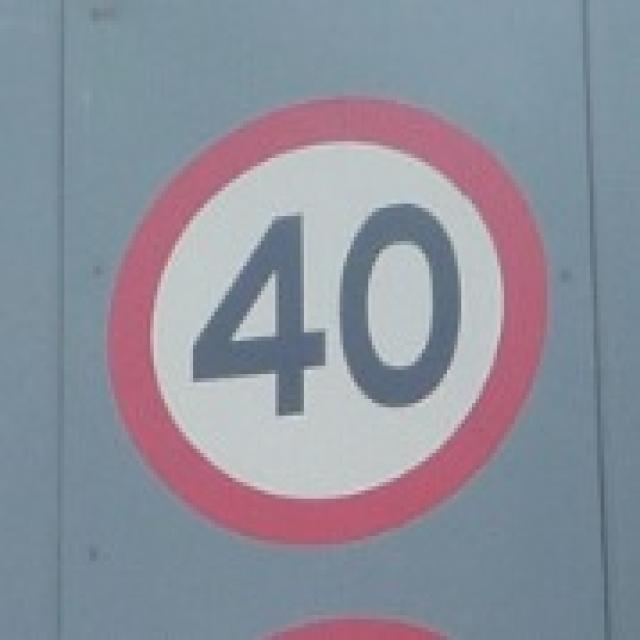Speed Limit -40-: (188, 198, 465, 422)
